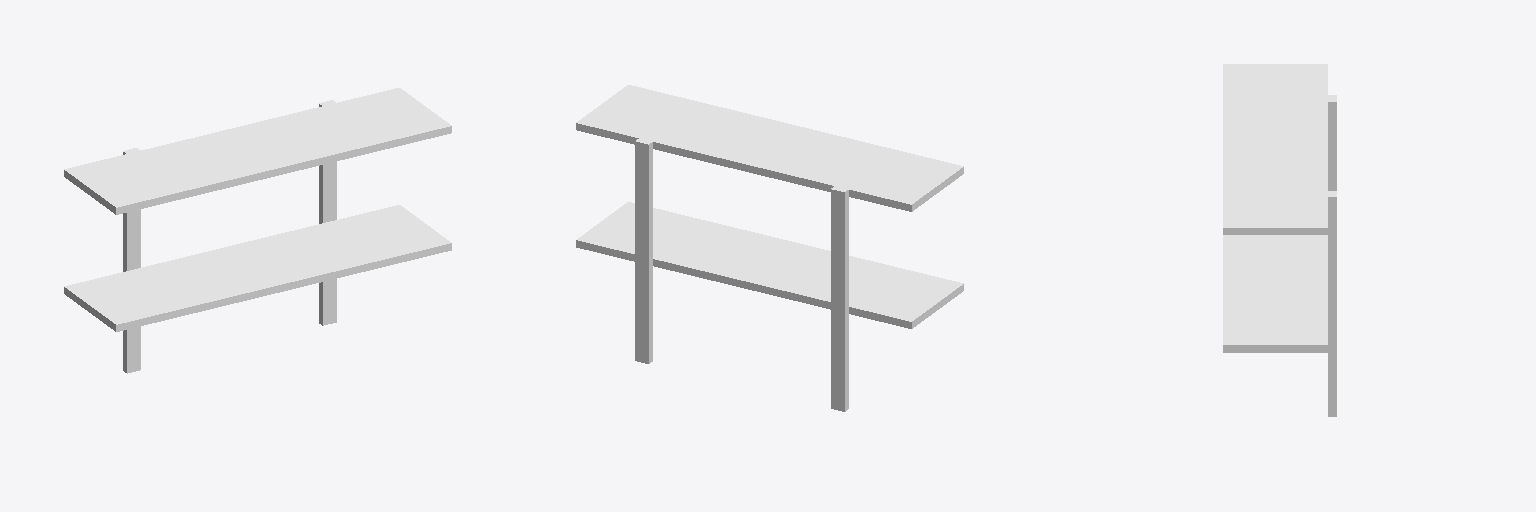
Rendered from toy-store-14-table.obj.
The picture shows the model from 3 angles: view 1: azimuth 30°, elevation 25°; view 2: azimuth 150°, elevation 25°; view 3: azimuth 270°, elevation 25°; orthographic projection.
Parts seen in each view (by area): view 1: table; view 2: table; view 3: table.
Part boxes in pixels (x1,y1,x2,y2): table: (64,88,451,373); table: (576,85,963,411); table: (1223,64,1336,416).
Size of the model in its own units: 4.8 by 3 by 1.4.